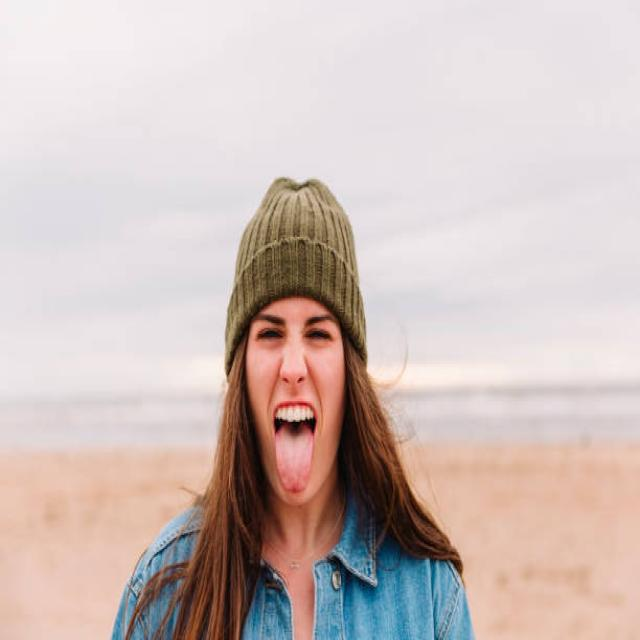tongue: (270, 426, 320, 501)
